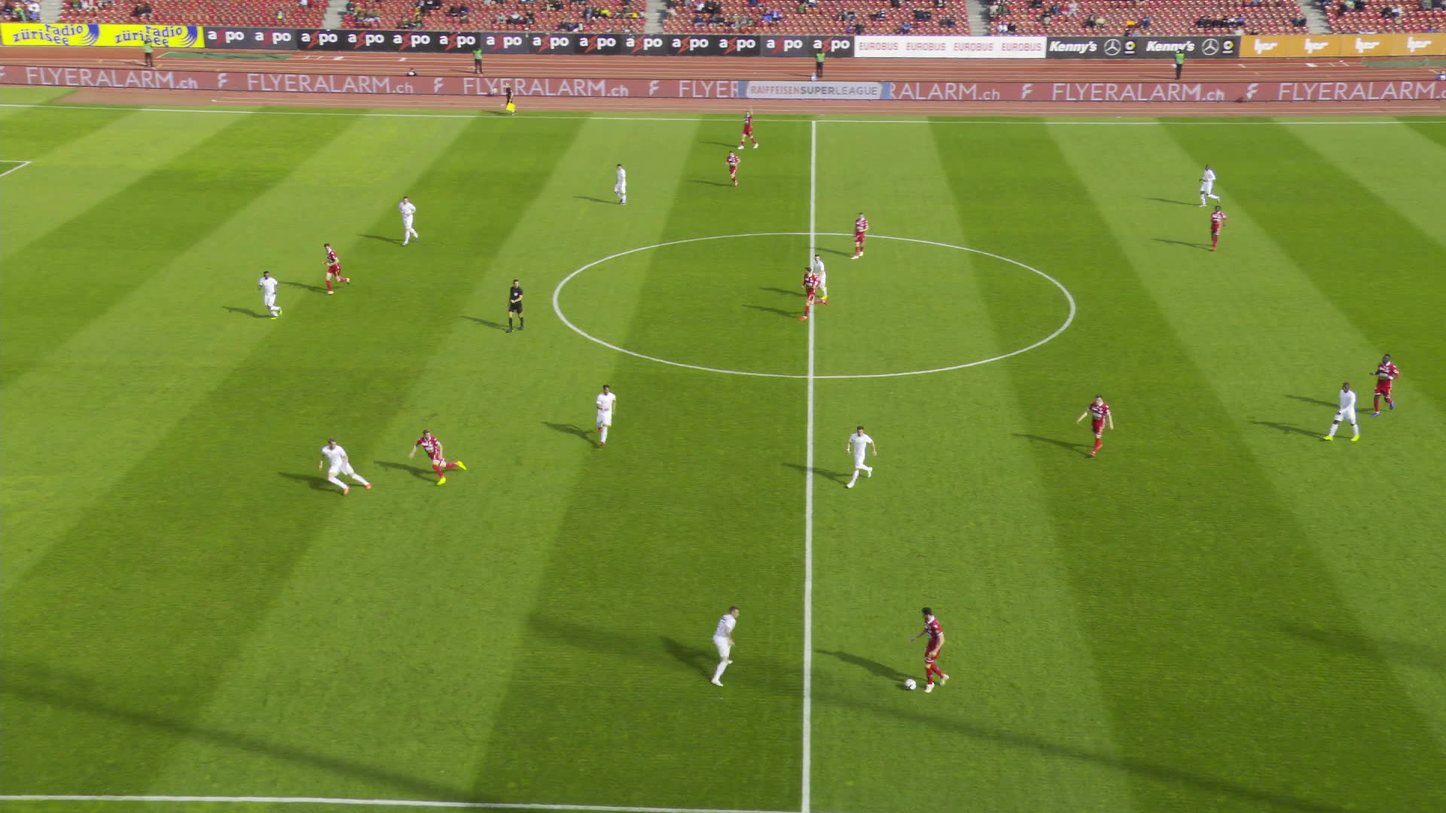ball: (906, 679, 917, 690)
player: (911, 607, 955, 690), (310, 436, 366, 494), (405, 428, 465, 481), (708, 604, 739, 685), (1075, 392, 1110, 455), (1321, 379, 1356, 440), (1367, 352, 1396, 418), (846, 423, 874, 486), (798, 266, 828, 320), (320, 242, 350, 295), (590, 384, 615, 443), (255, 270, 284, 319), (1195, 162, 1219, 207), (396, 196, 417, 247), (808, 253, 830, 300), (848, 212, 867, 258), (734, 107, 753, 150), (1206, 205, 1223, 250), (722, 151, 738, 188), (611, 164, 625, 206)
referee: (501, 278, 526, 332), (502, 82, 515, 117)
